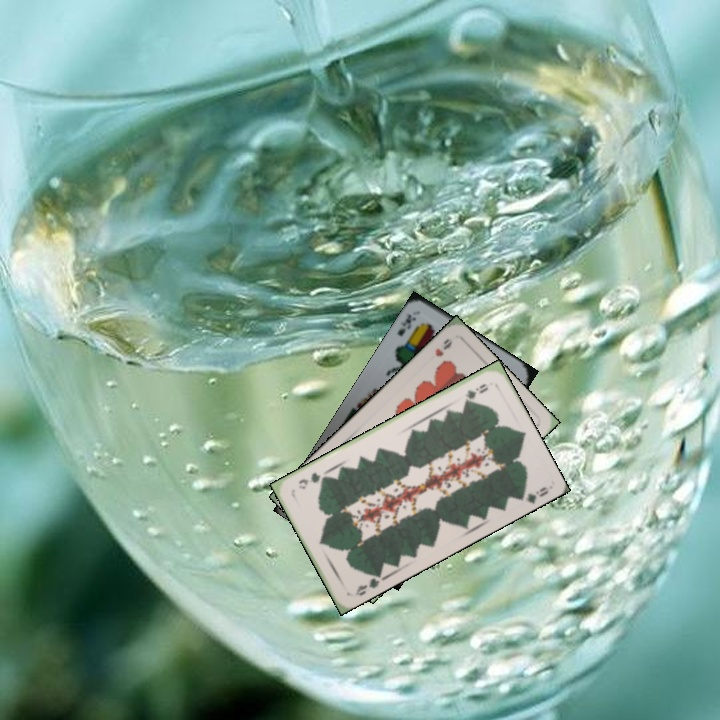EK: (393, 310, 418, 339)
G9: (351, 570, 383, 599), (460, 379, 491, 405)
H9: (431, 334, 455, 359)
